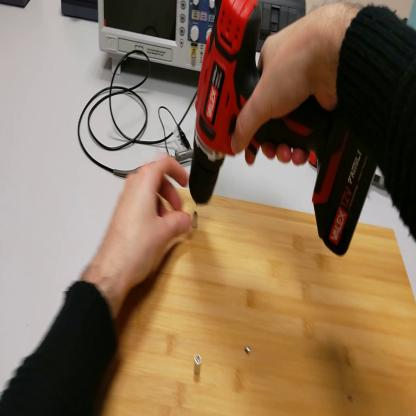electric screwdriver: (190, 2, 385, 256)
hand: (233, 10, 343, 169), (105, 158, 194, 289)
oscilloscope: (99, 2, 217, 78)
oscilloscope probe tip: (115, 148, 191, 182)
socket: (62, 1, 98, 23), (1, 2, 31, 13)
working area: (107, 181, 416, 415)
